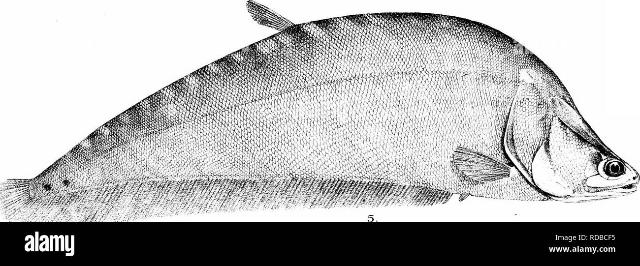Mulut: (576, 156, 640, 205)
Sirip Dada: (450, 138, 512, 190)
Sirip Perut: (452, 189, 473, 207)
Sirip Punggung: (237, 0, 317, 47)
